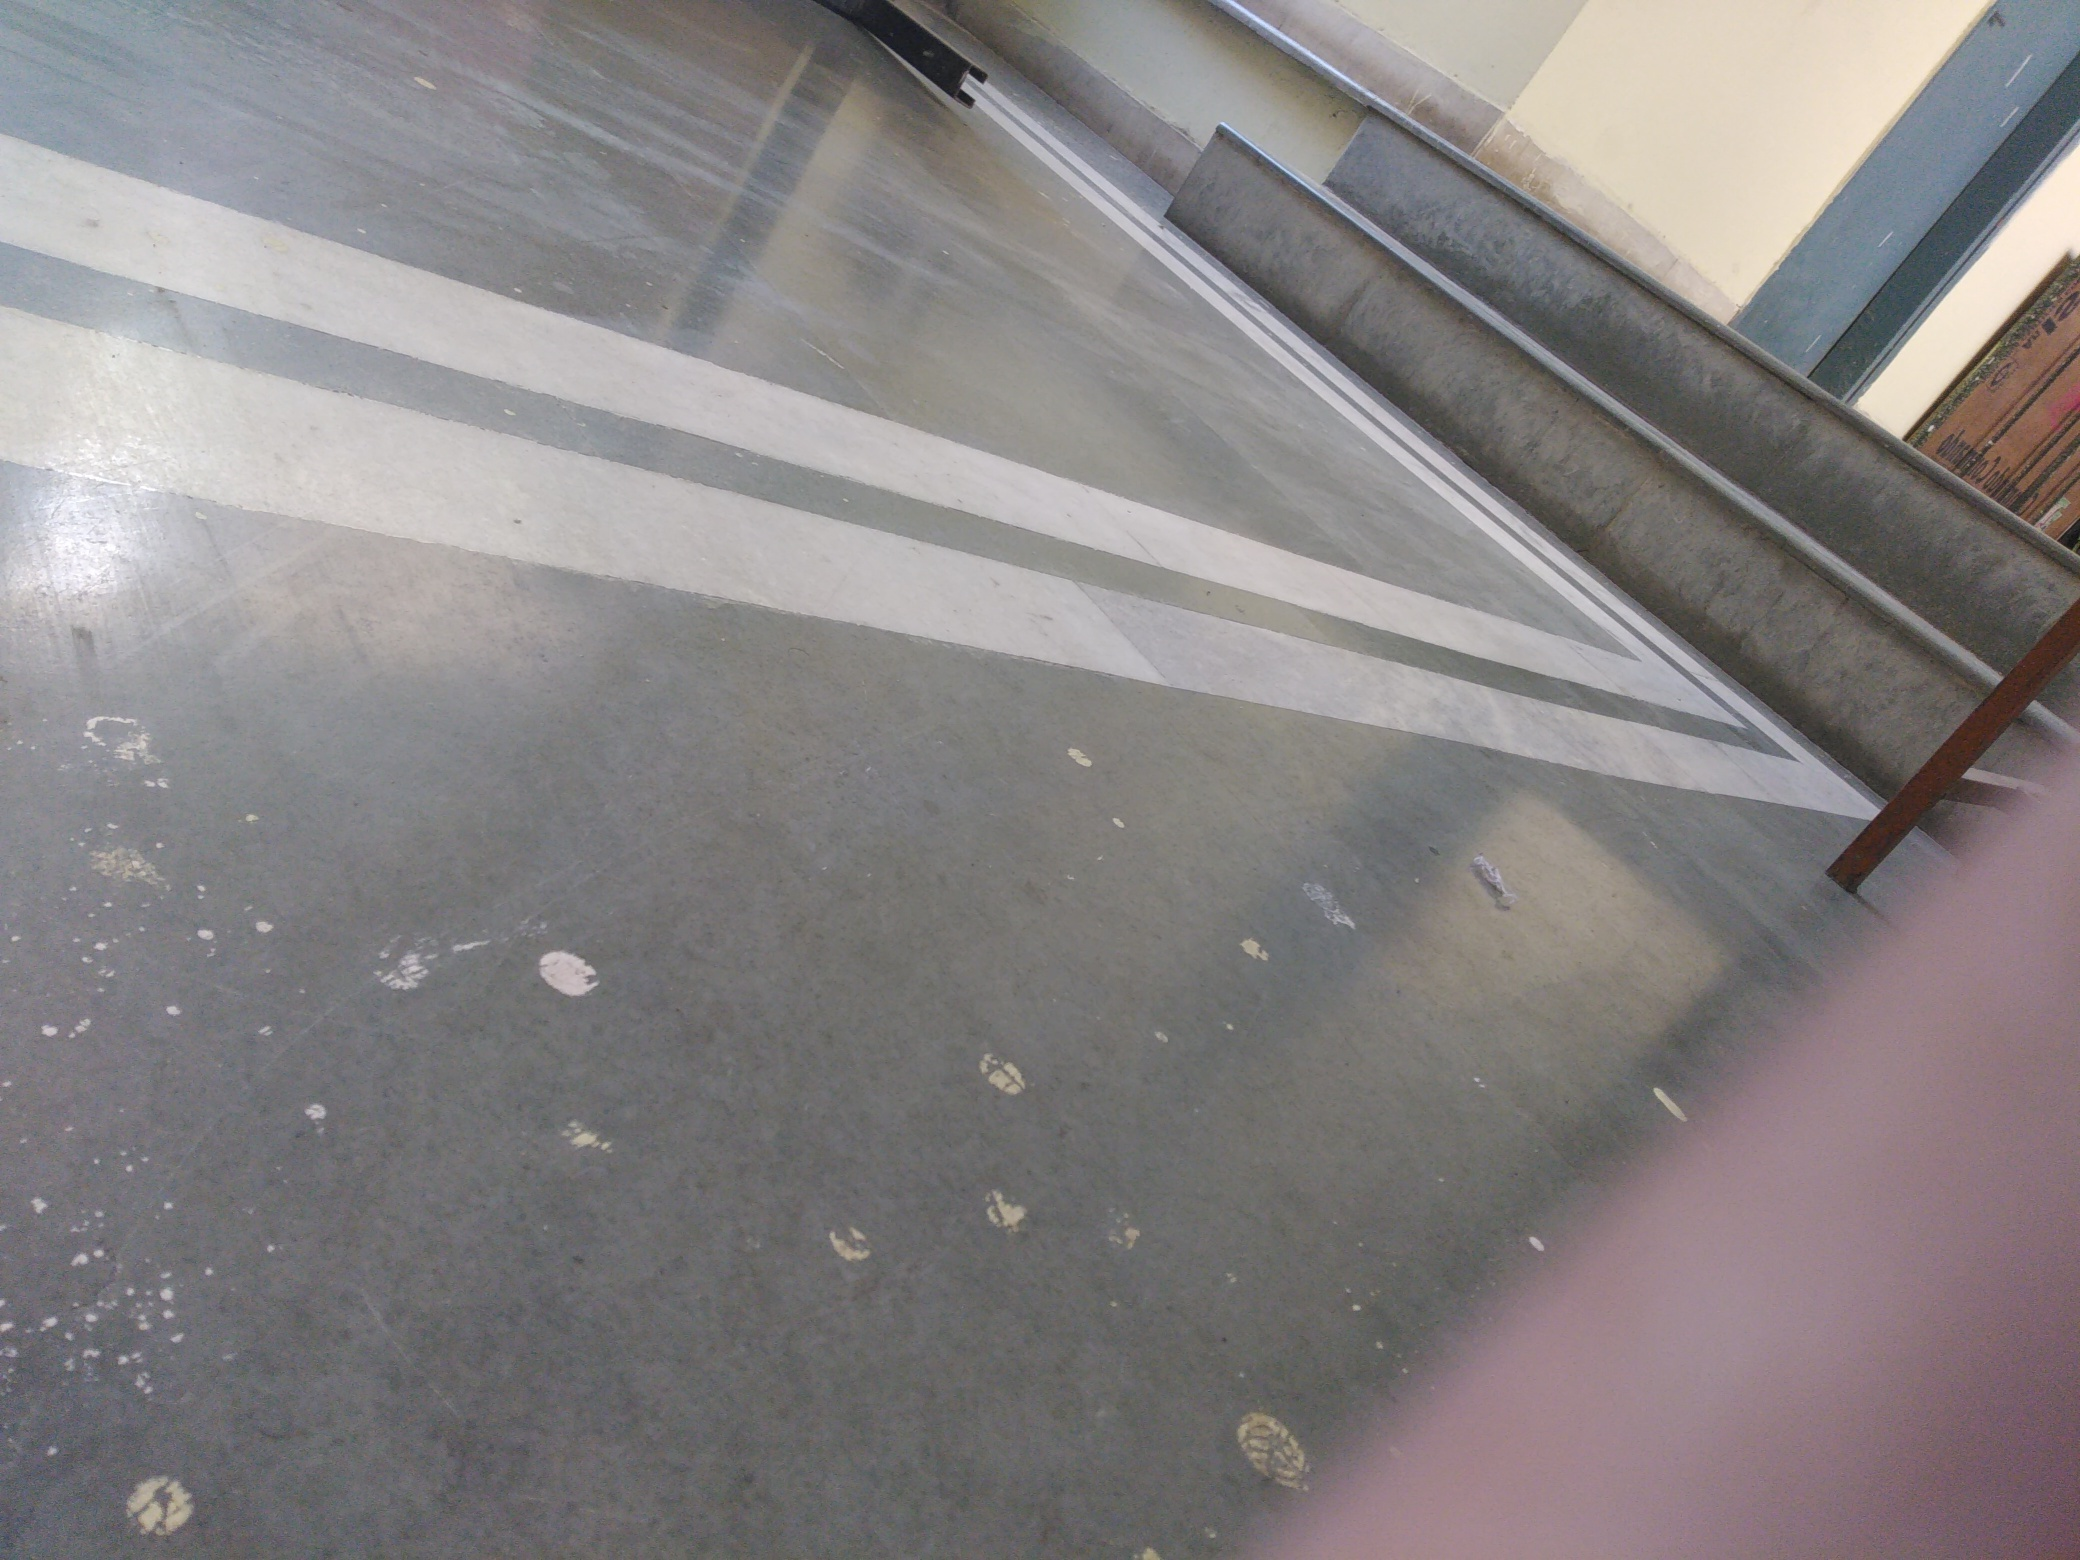stairs_up: (1055, 98, 2080, 818)
